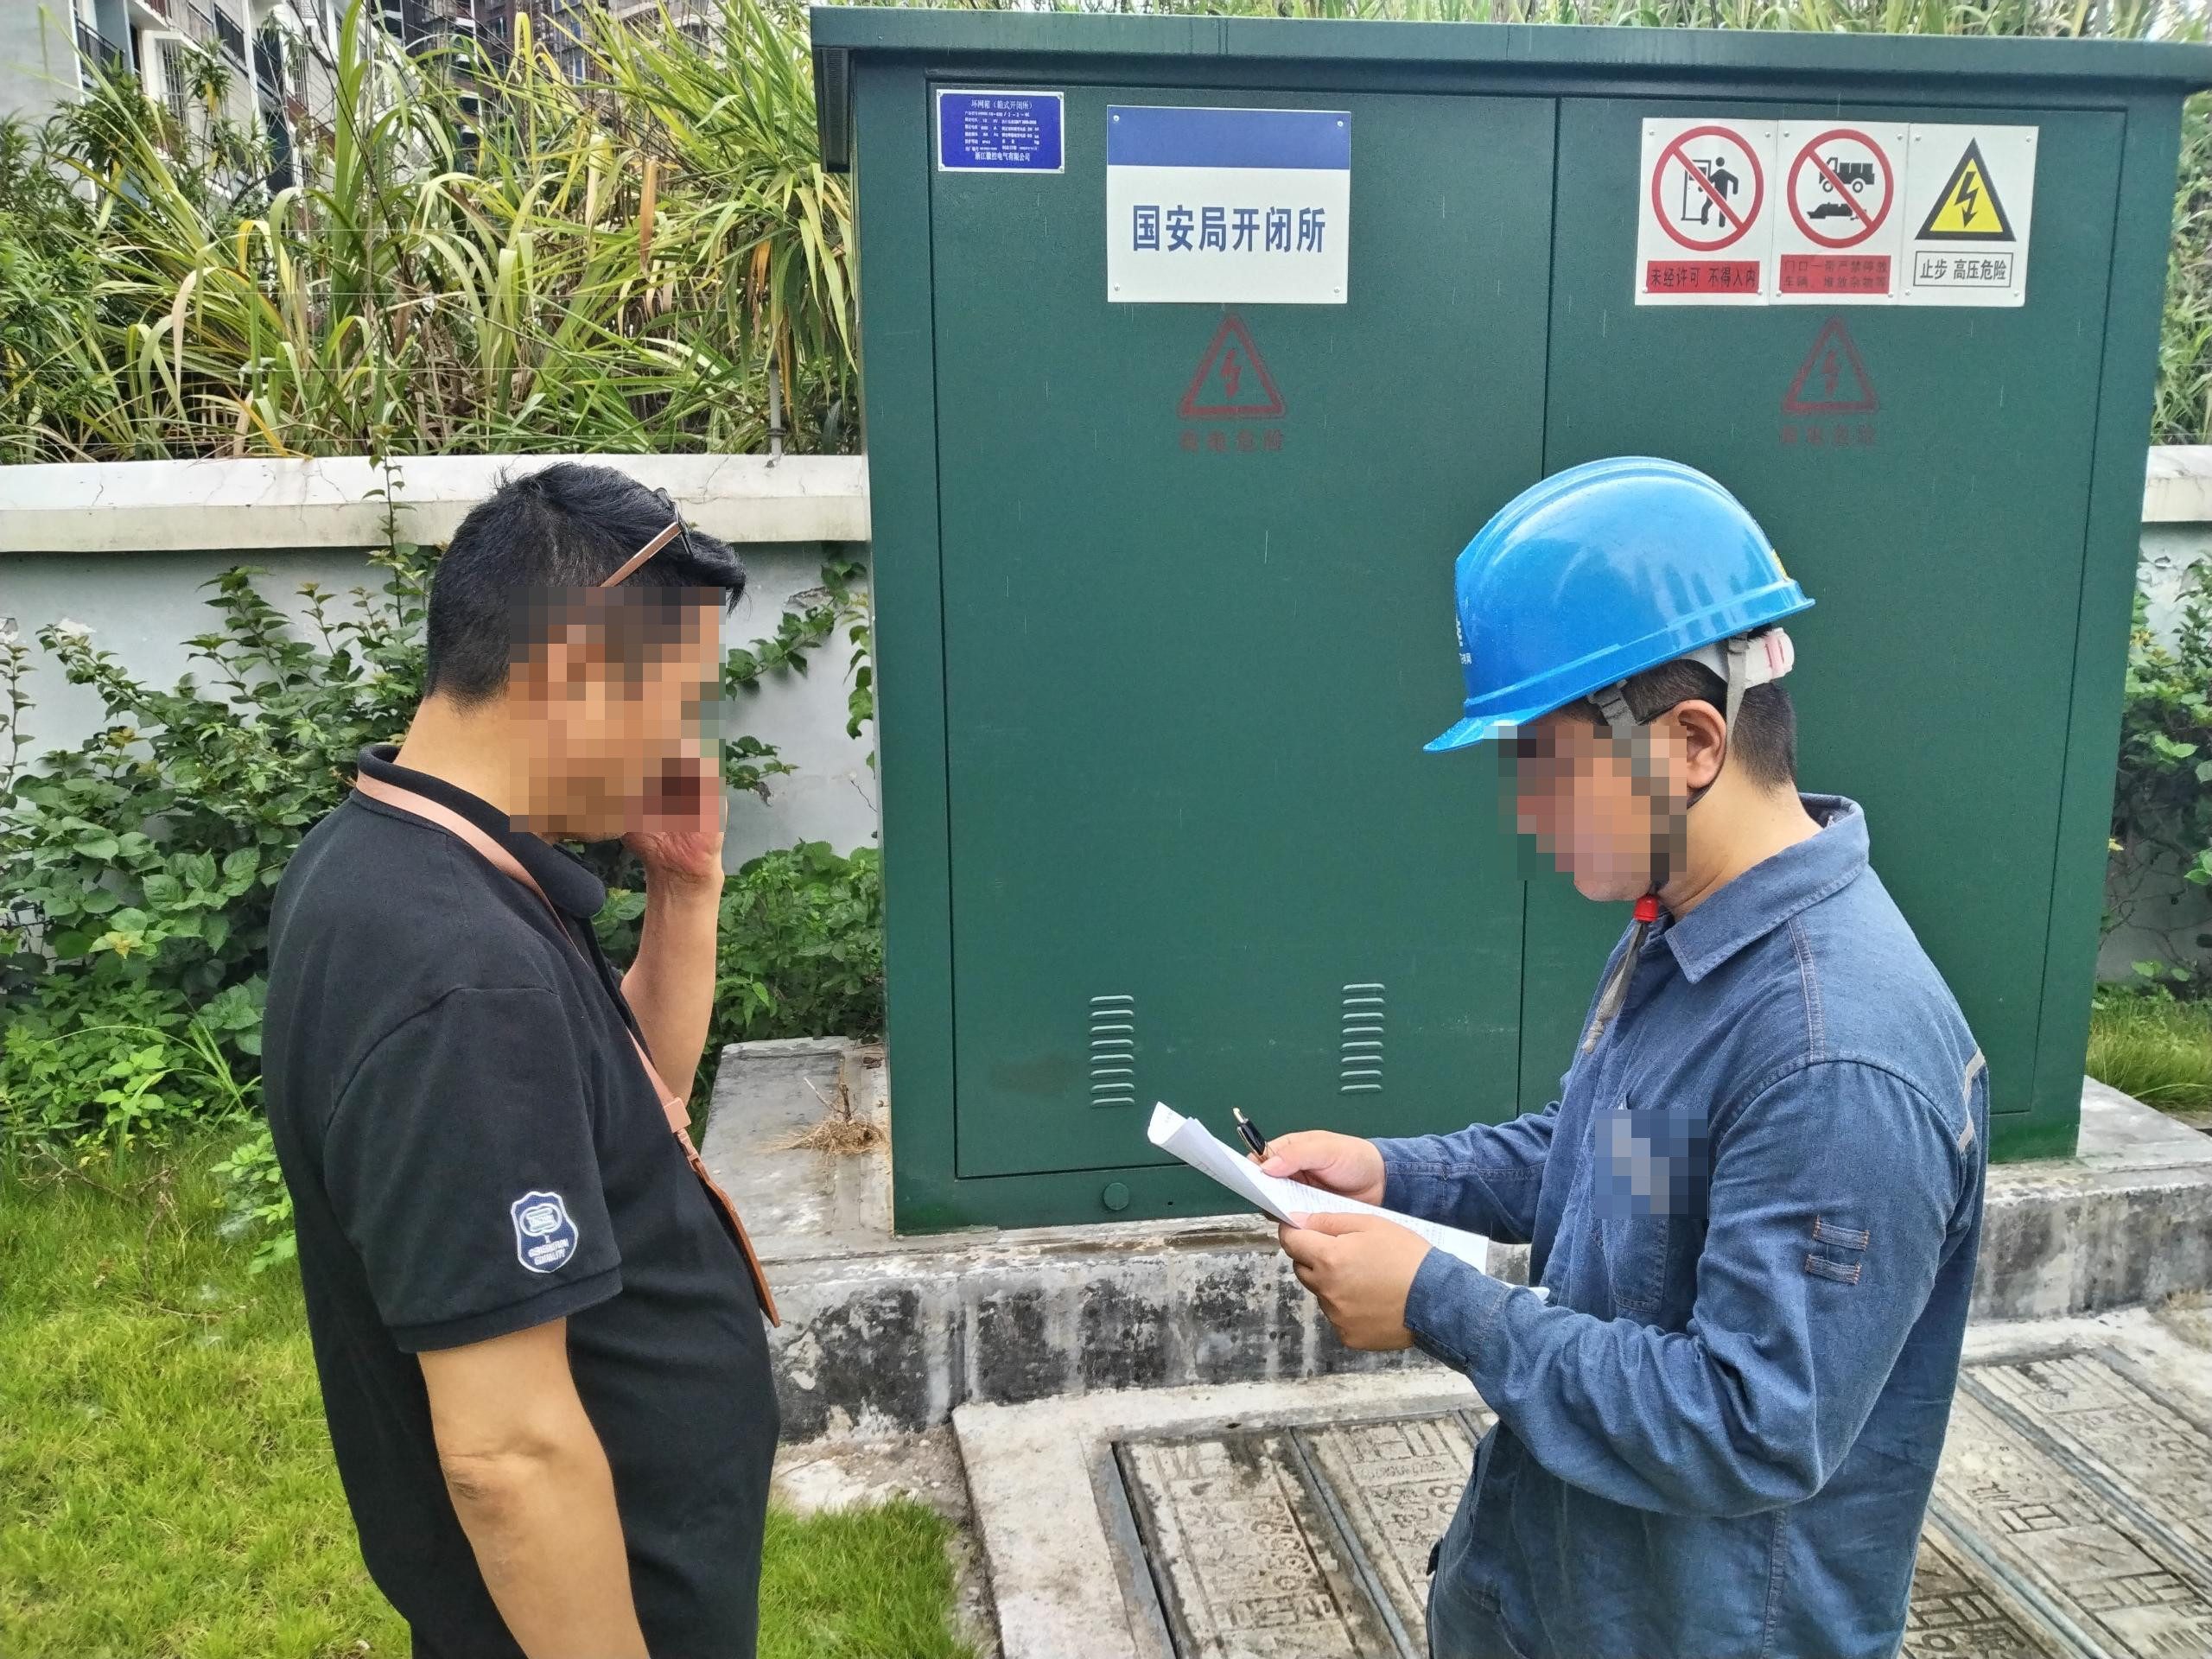halt: (1425, 456, 1841, 893)
hand: (1269, 1208, 1440, 1365), (1243, 1116, 1384, 1213)
inear: (1594, 664, 1772, 828)
noear: (521, 619, 628, 745)
person: (1237, 447, 2009, 1659), (274, 456, 861, 1659)
unhalt: (400, 460, 747, 836)
upcloth: (262, 775, 784, 1653)
upsuit: (1350, 772, 1993, 1659)
